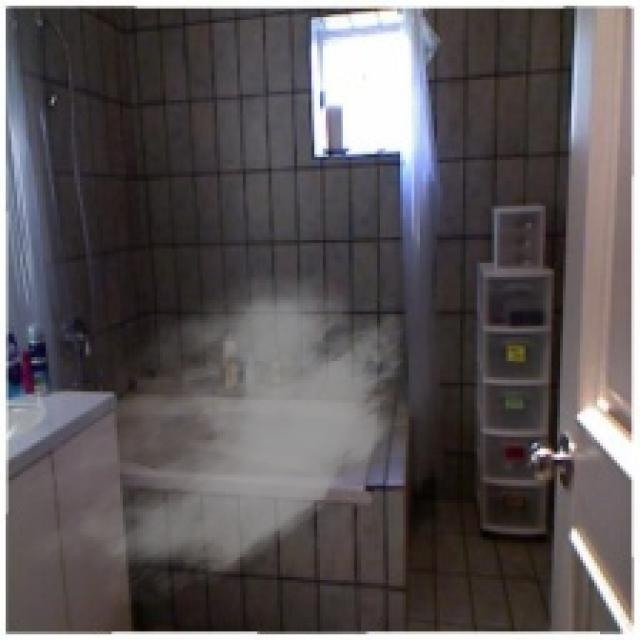Smoke: (22, 257, 418, 614)
